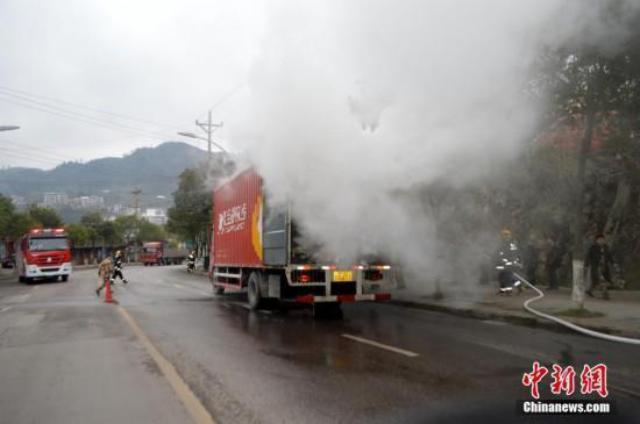smoke: (251, 23, 369, 91), (296, 185, 386, 261), (251, 92, 325, 179), (399, 87, 458, 194), (327, 94, 395, 185), (459, 79, 517, 170), (444, 4, 508, 85), (506, 8, 610, 52), (374, 10, 438, 80)
